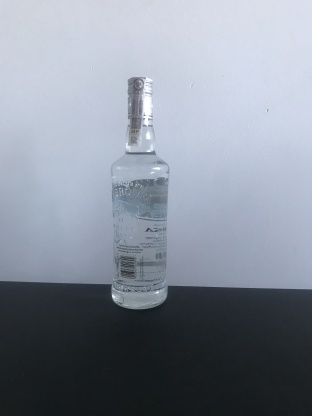nakretka: (125, 72, 155, 123)
